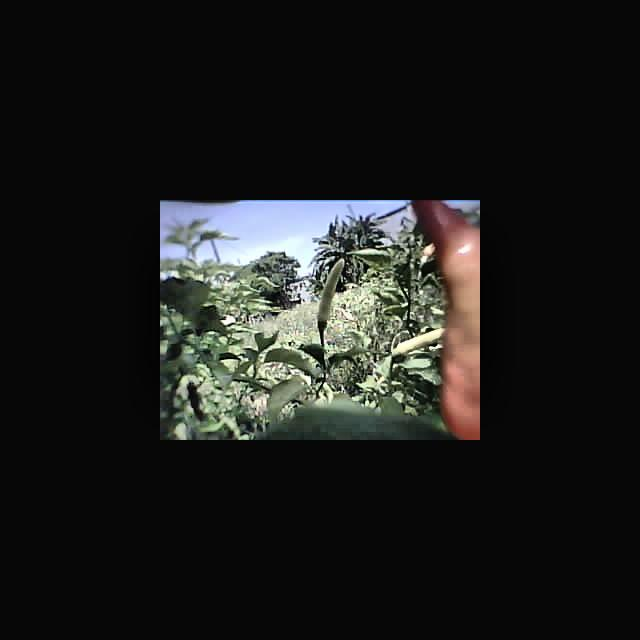Cabai: (440, 202, 480, 436)
